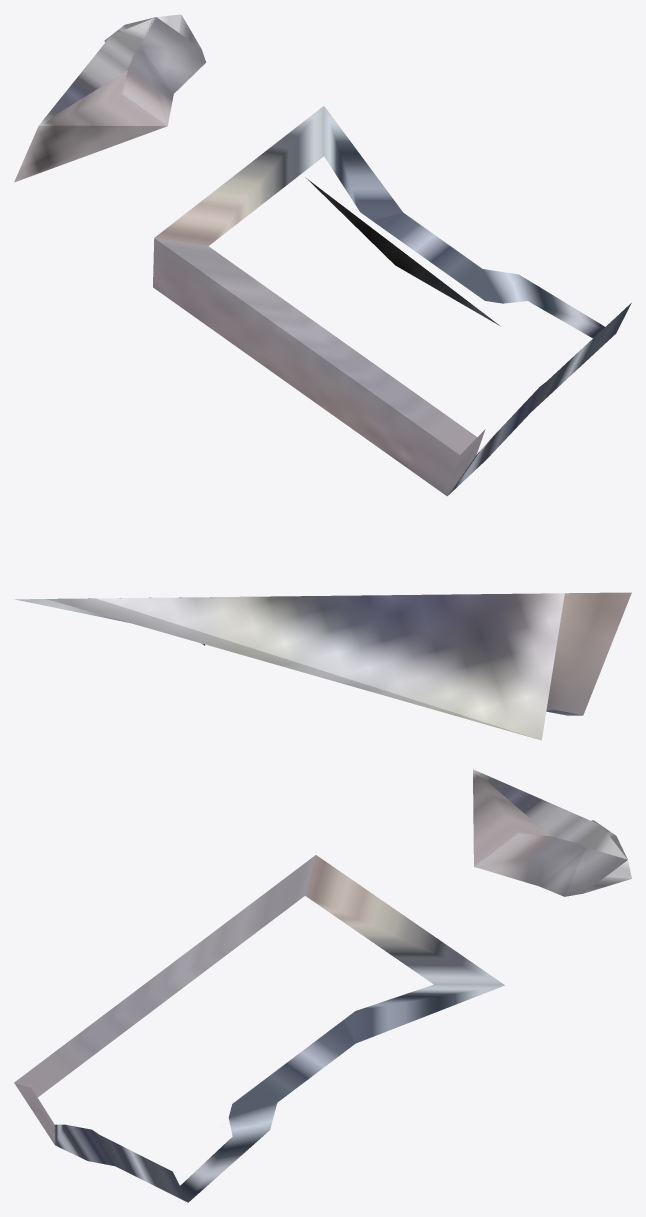
The picture shows the model from 3 angles, top to bottom: view 1: azimuth 30°, elevation 25°; view 2: azimuth 150°, elevation 25°; view 3: azimuth 270°, elevation 25°; orthographic projection. The views are drawn at different scales.
Bounding box in the file's own units: 22.67 × 13.49 × 26.39.
1 material, 1 textured.
